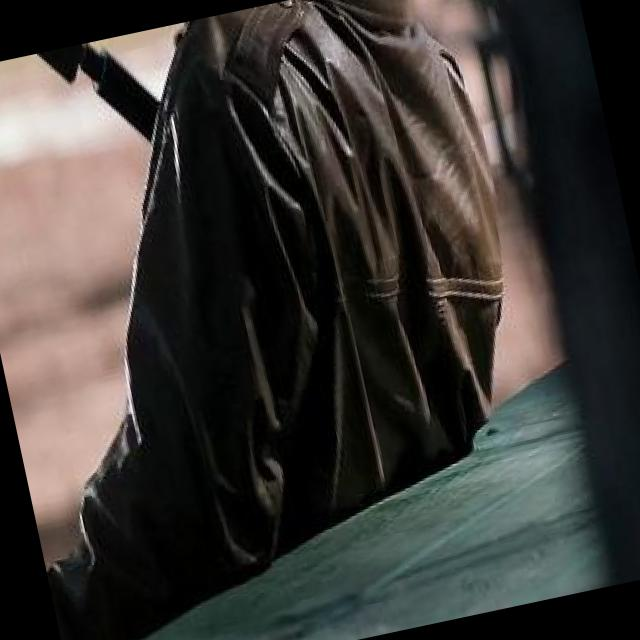Guns: (0, 29, 175, 210)
